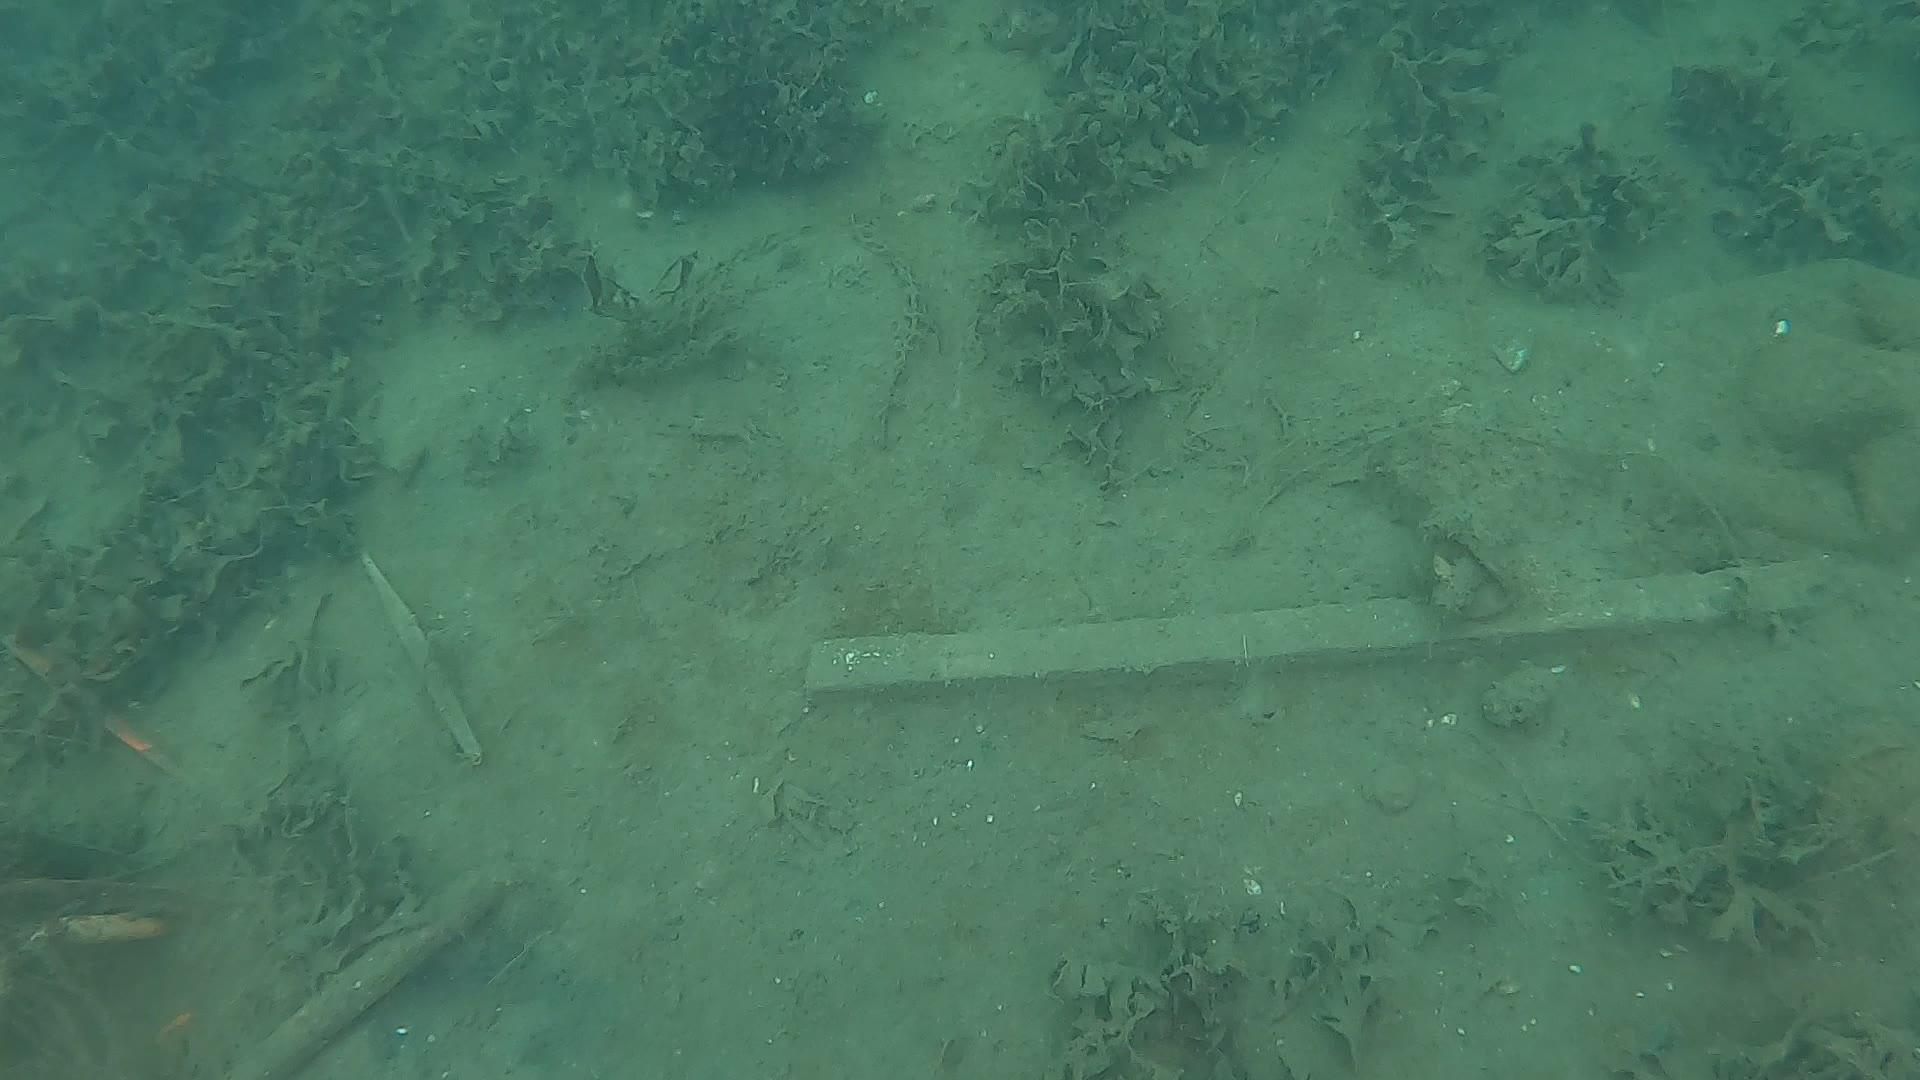wood: (800, 545, 1829, 703)
